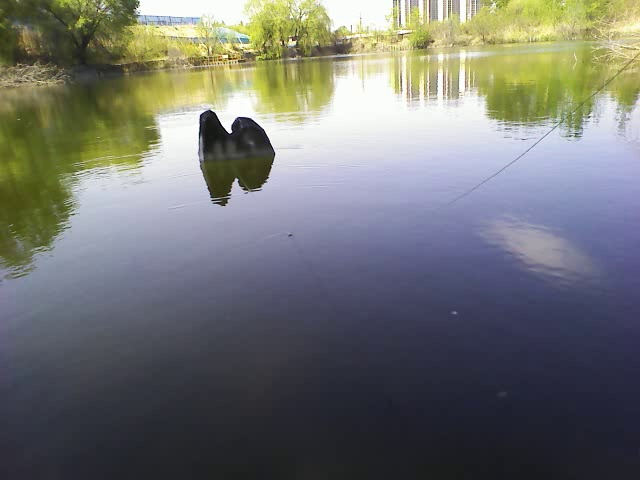rock: (193, 107, 276, 163)
